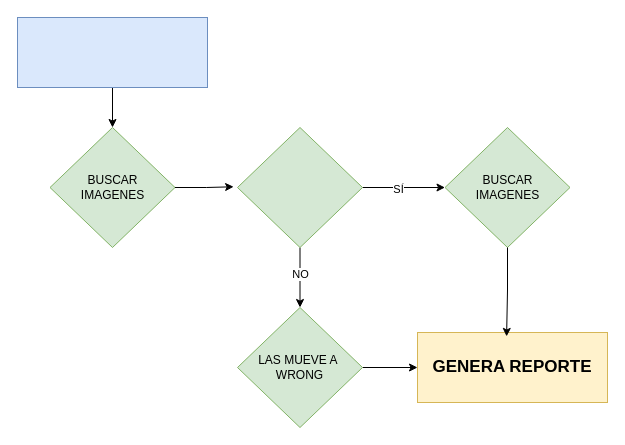
Some shapes in this 625 by 445 pixel diagram are drawn without their labels. Here are the shapes that lost their labels. From the top down, the centre of each, then its label:
the point at 112,52: PBR OPTIMIZER
the point at 299,187: SON CUADRADAS
